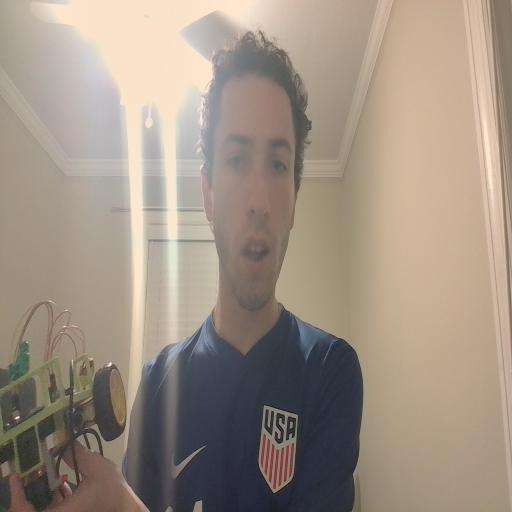green LEGO minifig: (7, 339, 31, 384)
